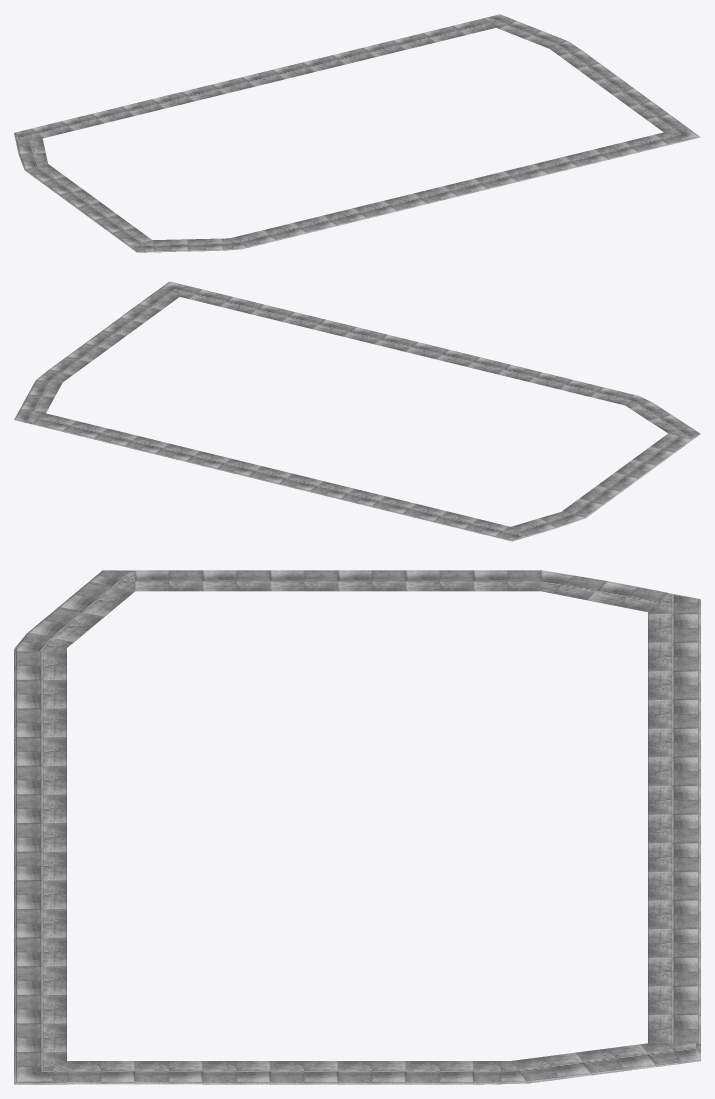
File: skidrow_sidewalk_assembly.fbx
3 views of the same model, one above another, from view 1: azimuth 30°, elevation 25°; view 2: azimuth 150°, elevation 25°; view 3: azimuth 270°, elevation 25° (orthographic). The views are drawn at different scales.
Parts seen in each view (by area): view 1: sidewalk_piece_large019, sidewalk_piece_large001, sidewalk_piece_large025, sidewalk_piece_large, sidewalk_piece_large026, sidewalk_piece_large028, sidewalk_piece_large027, sidewalk_piece_large015, sidewalk_piece_large014, sidewalk_piece_large016, sidewalk_piece_large002, sidewalk_piece_large004 (+14 smaller); view 2: sidewalk_piece_large011, sidewalk_piece_large009, sidewalk_piece_large013, sidewalk_piece_large007, sidewalk_piece_large010, sidewalk_piece_large008, sidewalk_piece_large012, sidewalk_piece_large014, sidewalk_piece_large015, sidewalk_piece_large016, sidewalk_piece_large005, sidewalk_piece_large002 (+15 smaller); view 3: sidewalk_piece_large005, sidewalk_piece_large002, sidewalk_piece_large003, sidewalk_piece_large004, sidewalk_piece_large, sidewalk_piece_large007, sidewalk_piece_large008, sidewalk_piece_large009, sidewalk_piece_large010, sidewalk_piece_large011, sidewalk_piece_large012, sidewalk_piece_large013 (+19 smaller).
Boxes of the visible parts, box(x1,y1,x2,y2) form: sidewalk_piece_large019: box(152, 238, 223, 252); sidewalk_piece_large001: box(504, 156, 577, 181); sidewalk_piece_large025: box(444, 171, 517, 196); sidewalk_piece_large: box(565, 142, 637, 167); sidewalk_piece_large026: box(384, 186, 457, 211); sidewalk_piece_large028: box(233, 223, 306, 247); sidewalk_piece_large027: box(323, 201, 396, 225); sidewalk_piece_large015: box(59, 189, 117, 220); sidewalk_piece_large014: box(25, 164, 82, 195); sidewalk_piece_large016: box(94, 214, 151, 246); sidewalk_piece_large002: box(629, 101, 686, 132); sidewalk_piece_large004: box(560, 50, 616, 81); sidewalk_piece_large011: box(279, 473, 354, 499); sidewalk_piece_large009: box(155, 443, 230, 469); sidewalk_piece_large013: box(402, 504, 477, 529); sidewalk_piece_large007: box(32, 413, 106, 439); sidewalk_piece_large010: box(217, 458, 292, 484); sidewalk_piece_large008: box(94, 428, 168, 454); sidewalk_piece_large012: box(341, 489, 415, 514); sidewalk_piece_large014: box(561, 486, 620, 518); sidewalk_piece_large015: box(597, 459, 656, 491); sidewalk_piece_large016: box(633, 433, 691, 465); sidewalk_piece_large005: box(20, 380, 62, 411); sidewalk_piece_large002: box(120, 291, 179, 322); sidewalk_piece_large005: box(512, 1044, 656, 1083); sidewalk_piece_large002: box(67, 1061, 202, 1084); sidewalk_piece_large003: box(202, 1061, 337, 1084); sidewalk_piece_large004: box(338, 1061, 473, 1084); sidewalk_piece_large: box(14, 966, 66, 1024); sidewalk_piece_large007: box(648, 986, 700, 1044); sidewalk_piece_large008: box(648, 928, 700, 987); sidewalk_piece_large009: box(648, 871, 700, 929); sidewalk_piece_large010: box(648, 814, 700, 872); sidewalk_piece_large011: box(648, 757, 700, 815); sidewalk_piece_large012: box(648, 699, 700, 758); sidewalk_piece_large013: box(648, 642, 700, 700).
Size of what is drawn, in the model's own units: 8395 by 13.6 by 4739.
